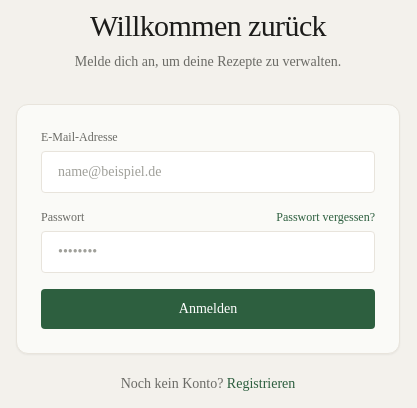
LoginForm (login page) › disables the submit button and shows 'Anmelden …' while the request is pending
Type "u@example.com" into the field labelled "E-Mail-Adresse" at (208, 172), box [41,151,375,193]
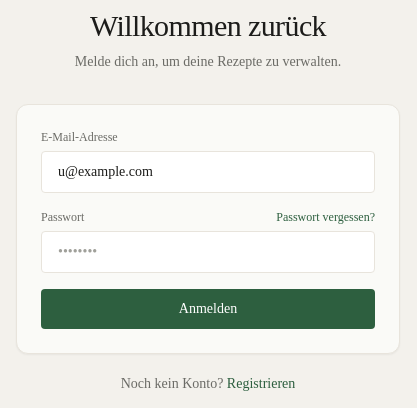
Type "secret123" into the password field labelled "Passwort" at (208, 252), box [41,231,375,273]
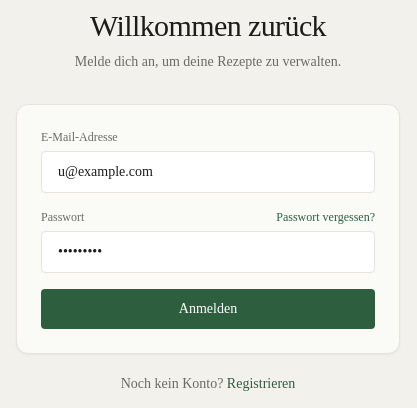
Click the button "Anmelden" at (208, 309), box [41,289,375,329]
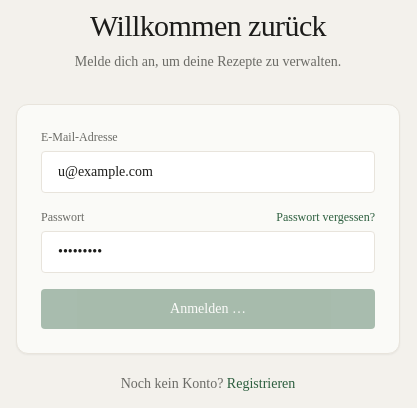
Now the button "Anmelden …" is disabled, box [41,289,375,329]
